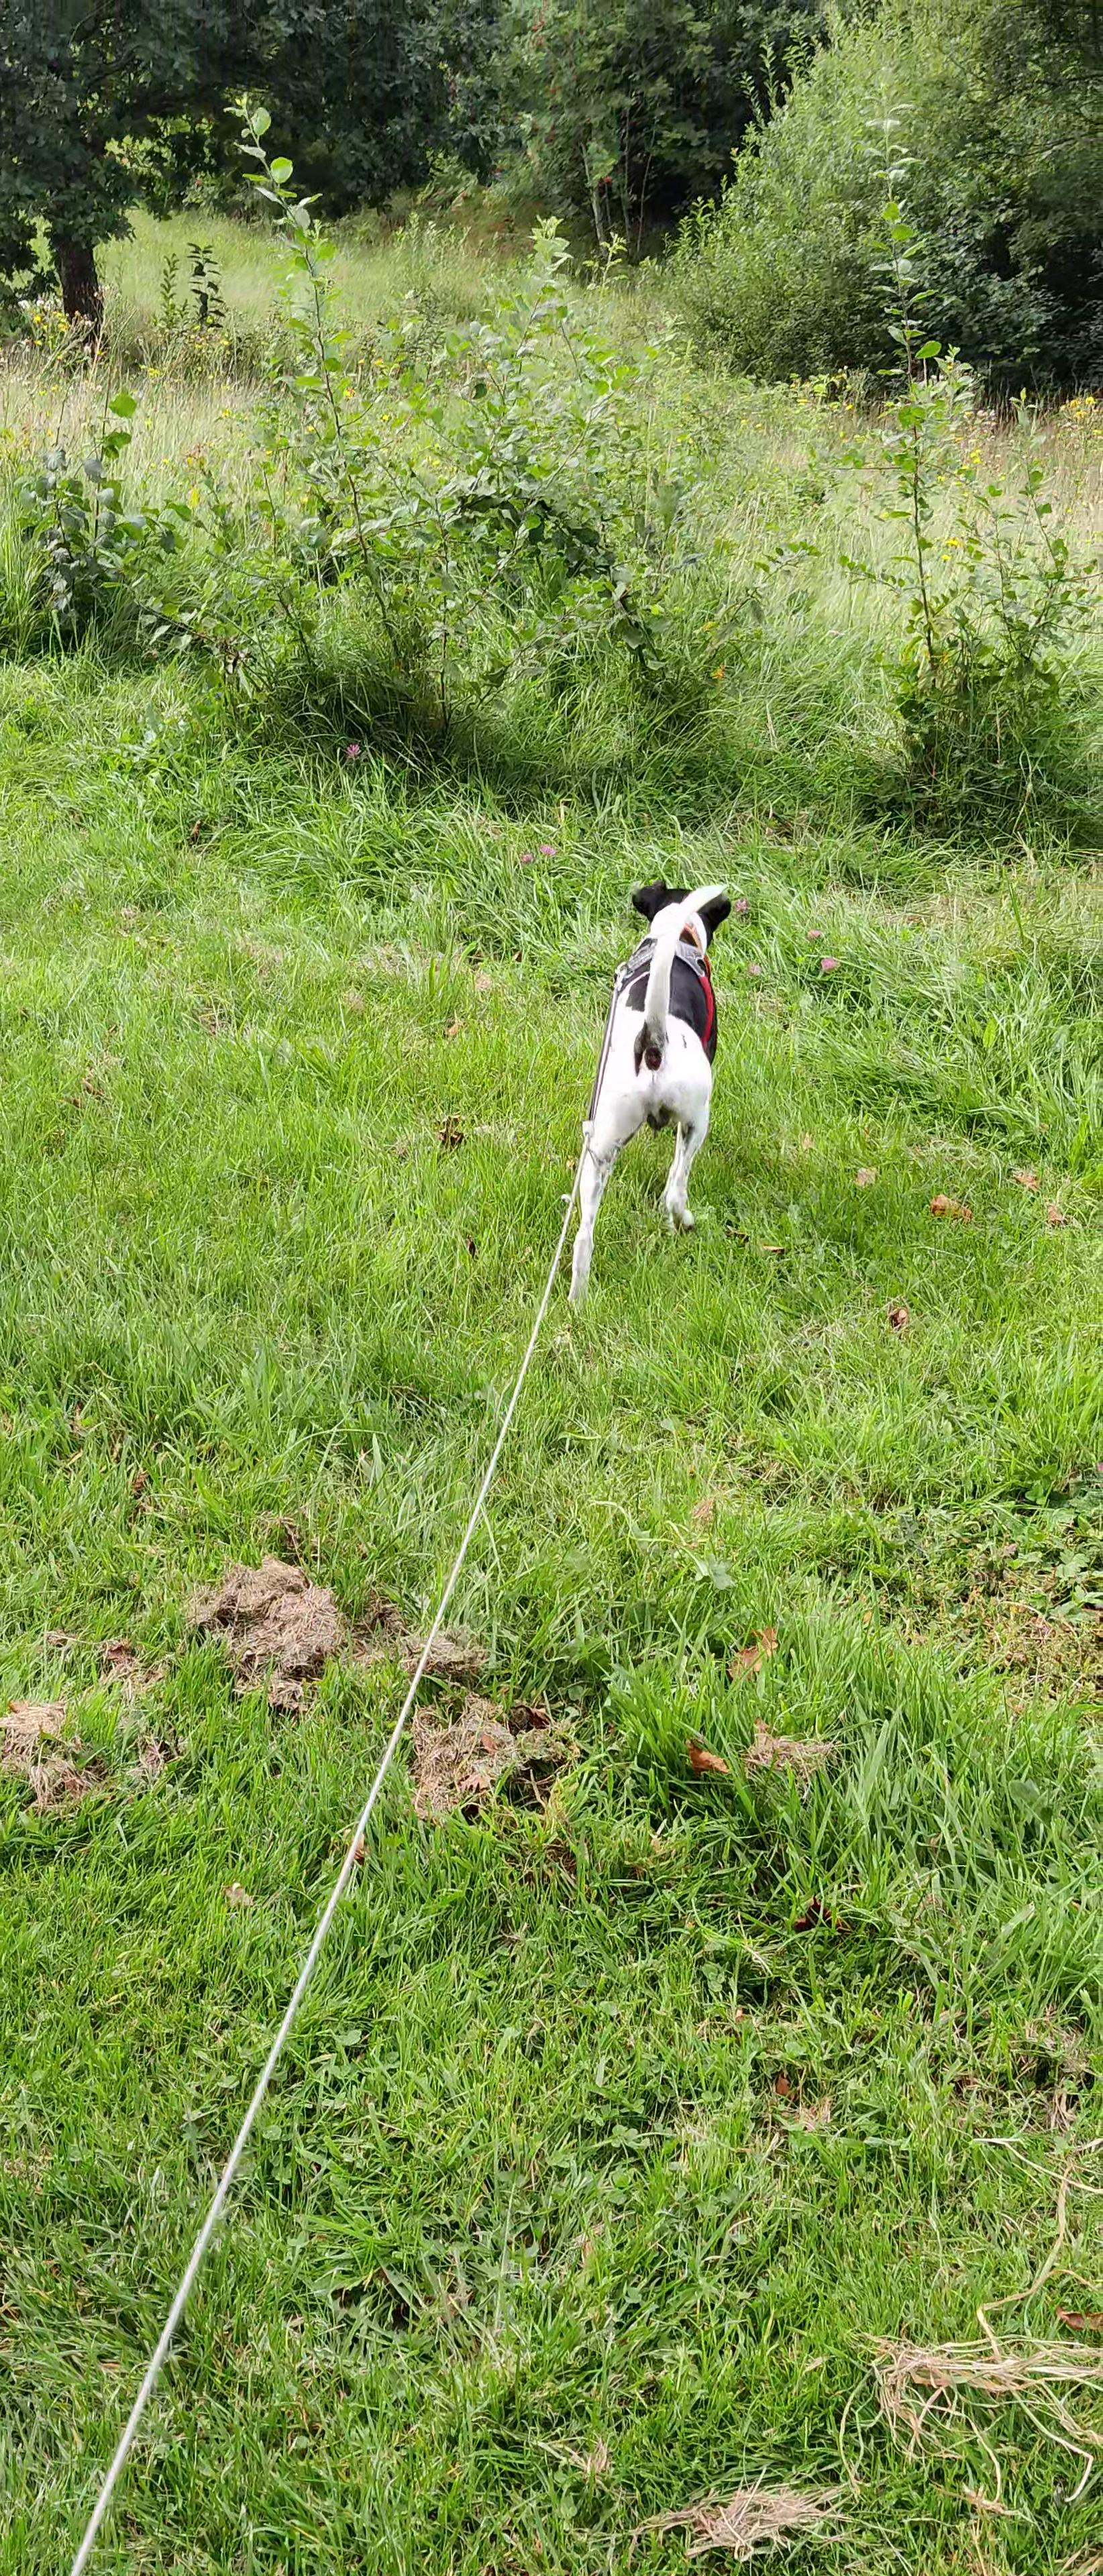Dog: (547, 848, 763, 1332)
